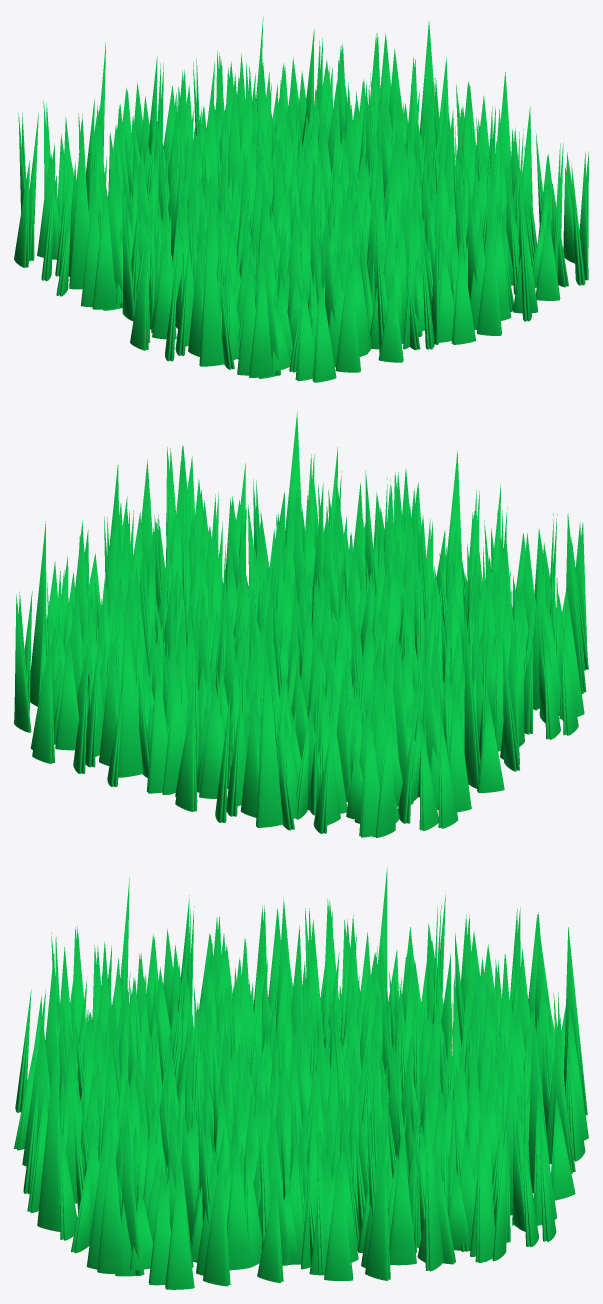
Rendered from grass.fbx.
3 renders of one model, top to bottom at view 1: azimuth 30°, elevation 25°; view 2: azimuth 150°, elevation 25°; view 3: azimuth 270°, elevation 25°, orthographic. The views are drawn at different scales.
Visible parts, largest first — view 1: group20_pasted__group11_pasted__pasted__group5_pasted__paste; view 2: group20_pasted__group11_pasted__pasted__group5_pasted__paste; view 3: group20_pasted__group11_pasted__pasted__group5_pasted__paste.
Part boxes in pixels (x1,y1,x2,y2): group20_pasted__group11_pasted__pasted__group5_pasted__paste: [14, 17, 588, 382]; group20_pasted__group11_pasted__pasted__group5_pasted__paste: [14, 411, 588, 837]; group20_pasted__group11_pasted__pasted__group5_pasted__paste: [14, 867, 588, 1289].
Size of the model in its own units: 4.49 by 1.71 by 4.39.
